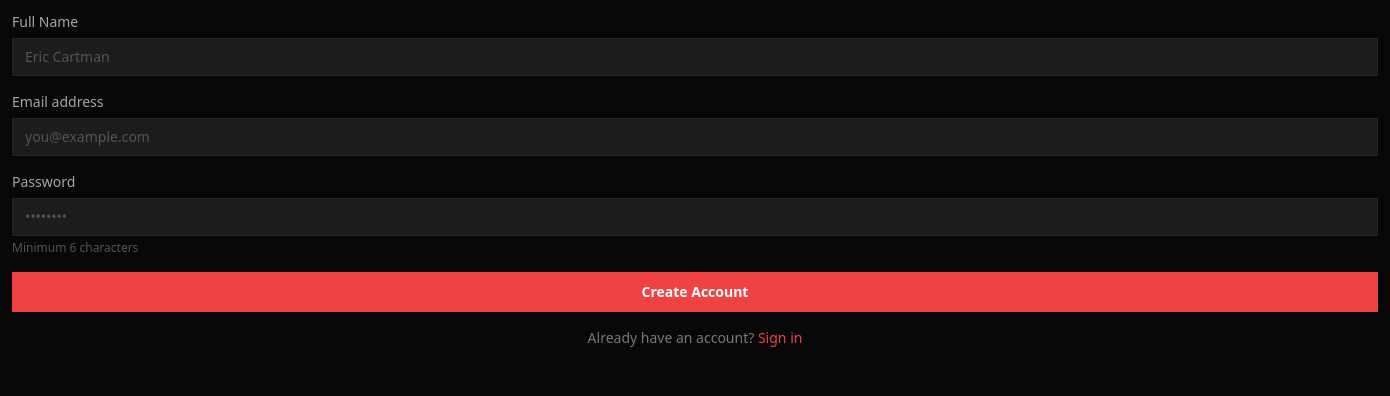
Test: RegisterPage › shows error if email already exists
The image size is (1390, 396).
Type "Test User" into the field labelled "Full Name".
click(695, 57); type("Test User")  # box [12,38,1378,76]
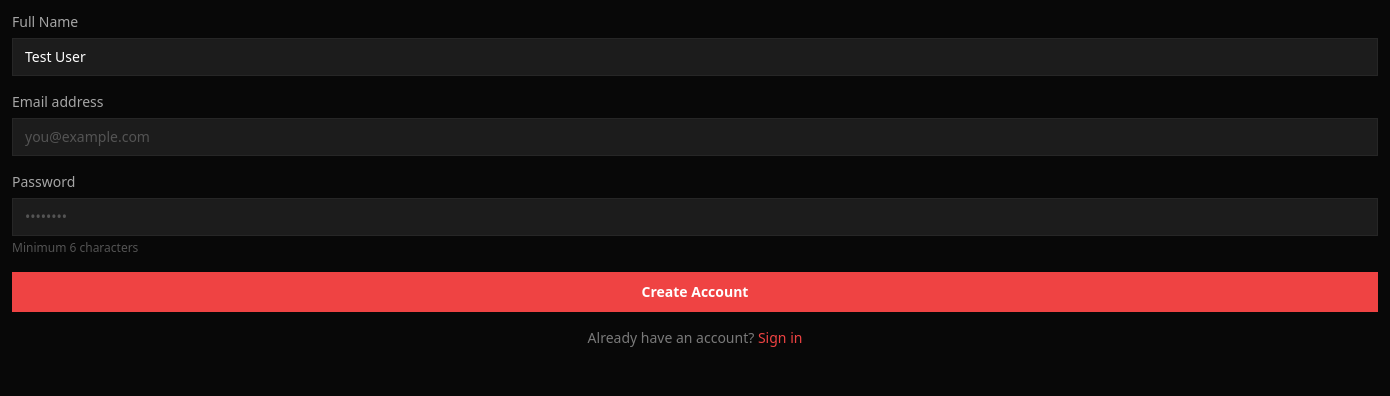
Type "existing@test.com" into the field labelled "Email address".
click(695, 137); type("existing@test.com")  # box [12,118,1378,156]
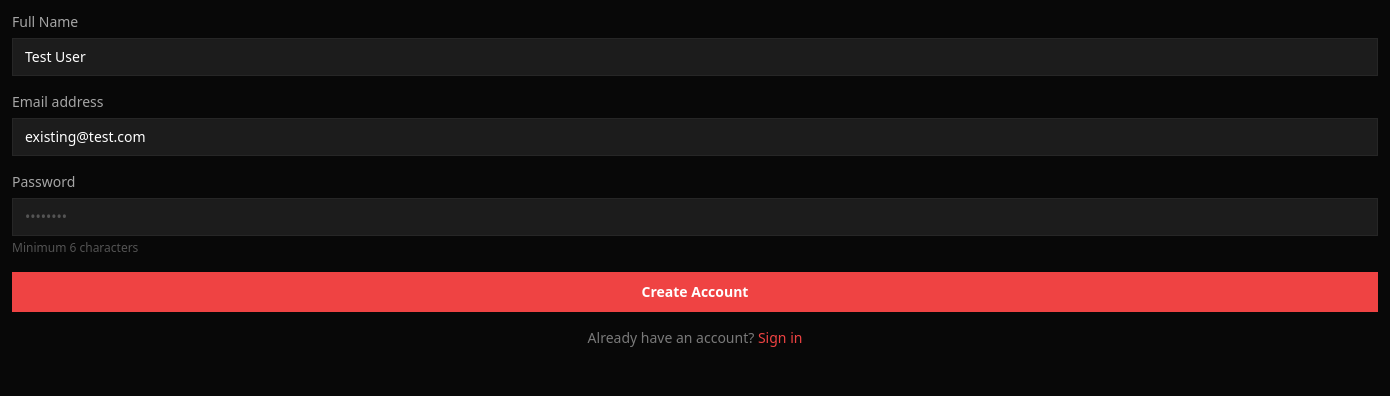
Type "StrongPass1!" into the password field labelled "Password".
click(695, 217); type("StrongPass1!")  # box [12,198,1378,236]
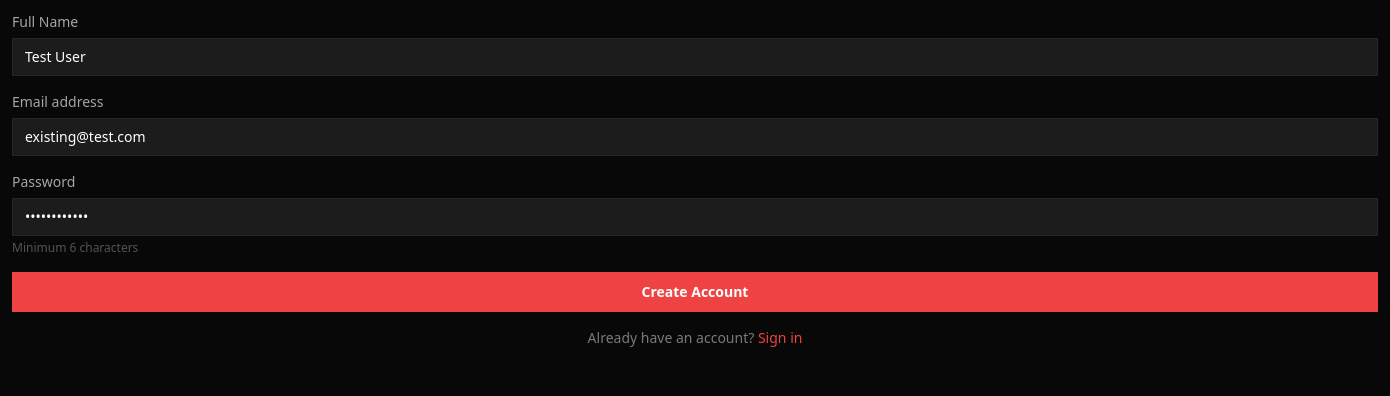
Click the button "Create Account".
click(695, 292)  # box [12,272,1378,312]
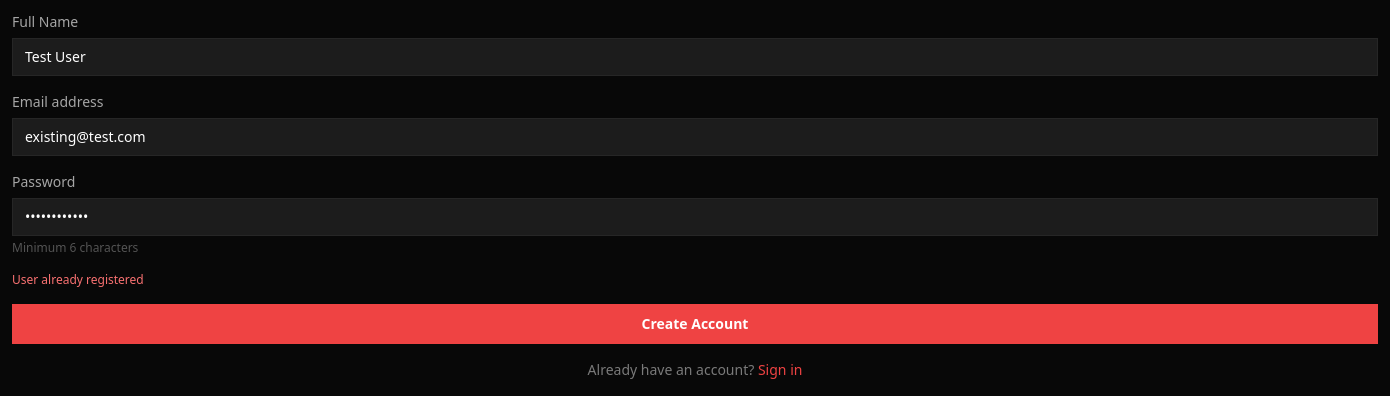
Expected: the text "User already registered" is shown, [12,271,144,288]
